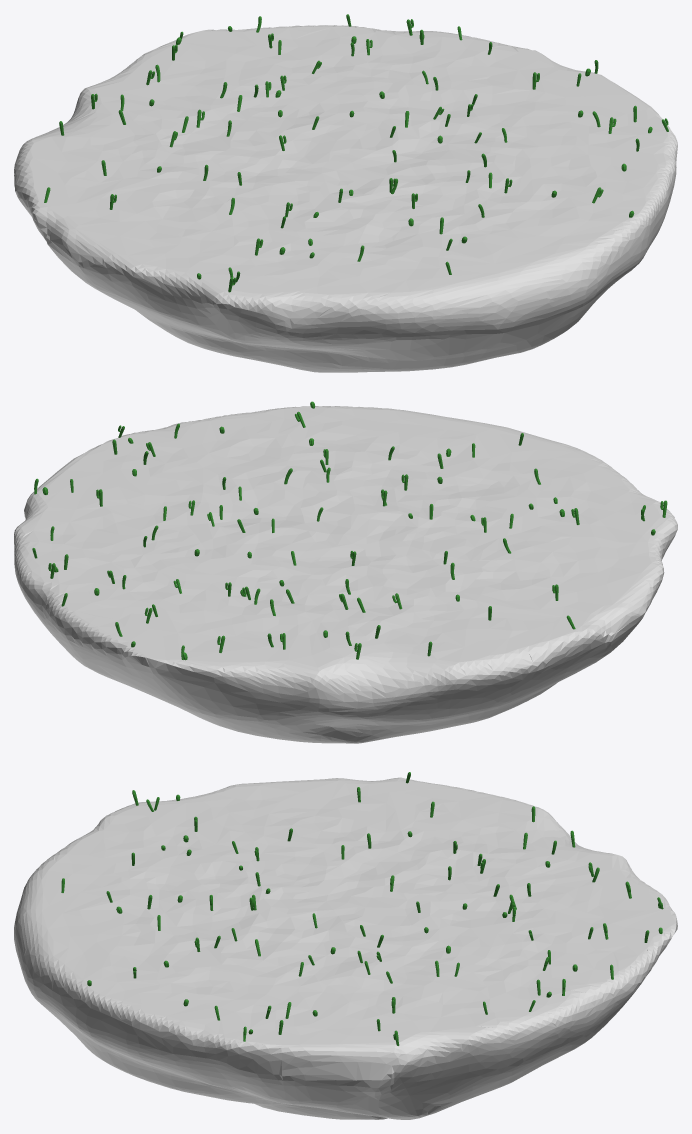
The model's file is ground.glb.
3 views of the same model, one above another, from view 1: azimuth 30°, elevation 25°; view 2: azimuth 150°, elevation 25°; view 3: azimuth 270°, elevation 25° (orthographic).
Parts seen in each view (by area): view 1: Landscape; view 2: Landscape; view 3: Landscape.
Part boxes in pixels (box(x1,y1,x2,y2)): Landscape: box(14, 25, 677, 372); Landscape: box(14, 406, 677, 743); Landscape: box(14, 777, 677, 1119).
Bounding box in the file's own units: 9.04 × 2.76 × 9.14.
